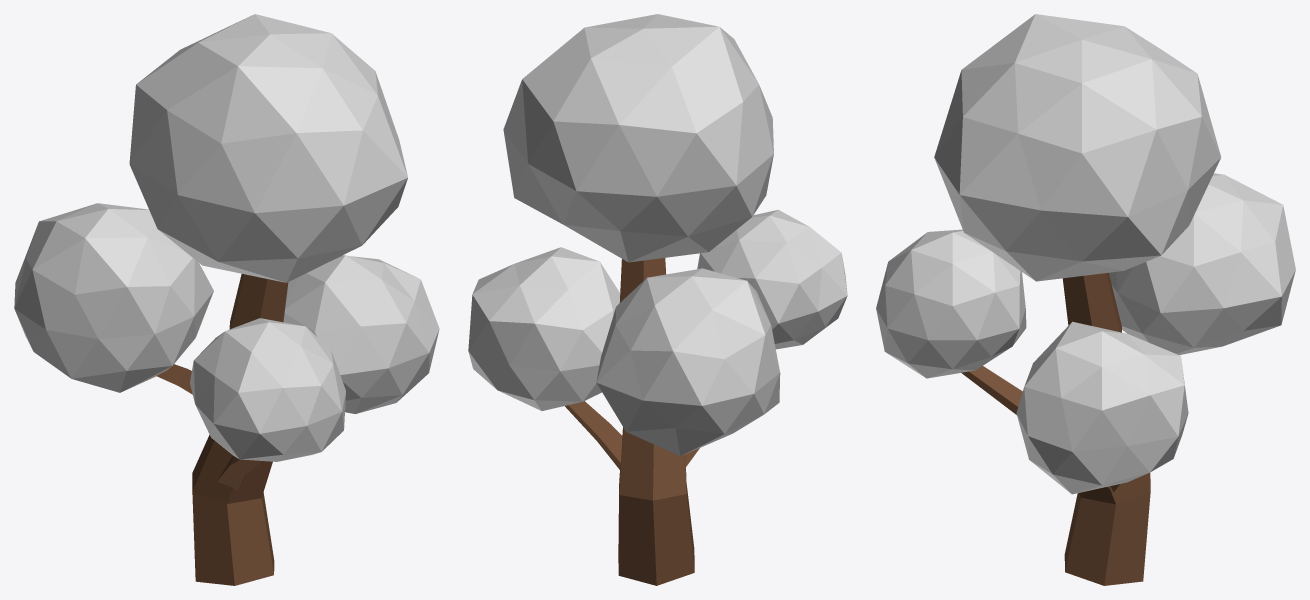
File: tree_small_2.glb
3 renders of one model, left to right at view 1: azimuth 30°, elevation 25°; view 2: azimuth 150°, elevation 25°; view 3: azimuth 270°, elevation 25°, orthographic. The views are drawn at different scales.
Parts seen in each view (by area): view 1: tree_small_2; view 2: tree_small_2; view 3: tree_small_2.
Part boxes in pixels (x1,y1,x2,y2): tree_small_2: (14, 14, 439, 585); tree_small_2: (468, 14, 847, 585); tree_small_2: (876, 14, 1295, 585).
Bounding box in the file's own units: 2.31 × 3.43 × 2.39.
